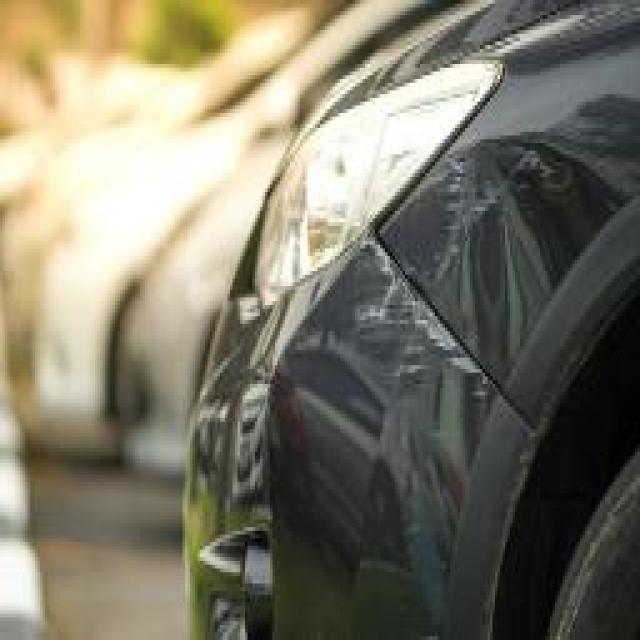Bumper: (293, 227, 563, 640)
Fender: (377, 110, 640, 424)
